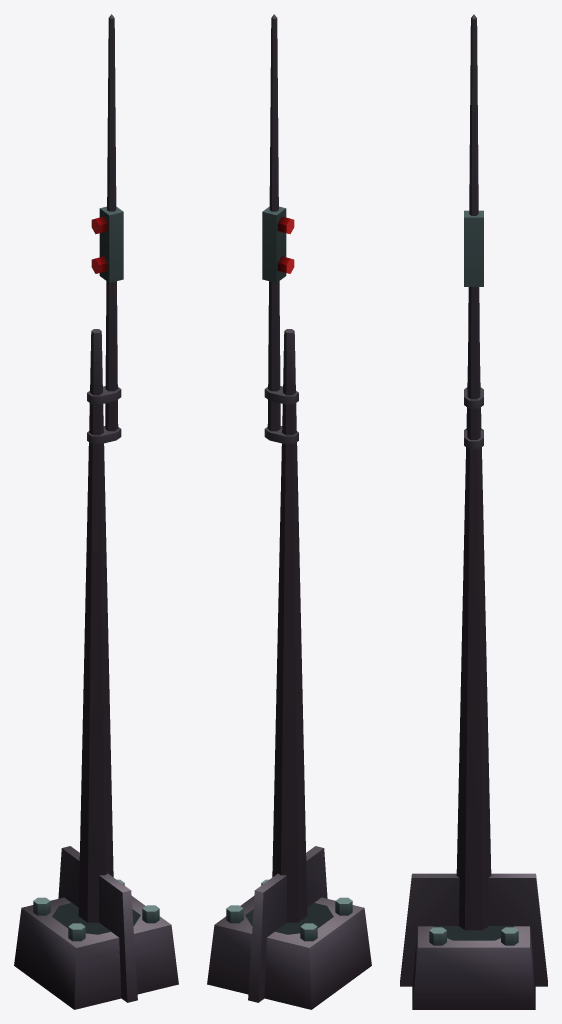
File: Antenna_1C.fbx
3 renders of one model, left to right at view 1: azimuth 30°, elevation 25°; view 2: azimuth 150°, elevation 25°; view 3: azimuth 270°, elevation 25°, orthographic. The views are drawn at different scales.
Parts seen in each view (by area): view 1: Antenna_1C; view 2: Antenna_1C; view 3: Antenna_1C.
Part boxes in pixels (x1=…): Antenna_1C: x1=14, y1=14, x2=178, y2=1009; Antenna_1C: x1=207, y1=14, x2=371, y2=1009; Antenna_1C: x1=400, y1=14, x2=547, y2=1009.
Size of the model in its own units: 275 by 2406 by 330.
